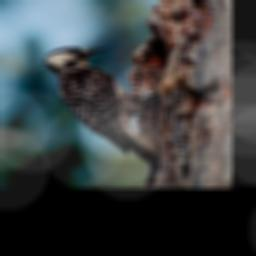Woodpecker: (29, 43, 168, 173)
